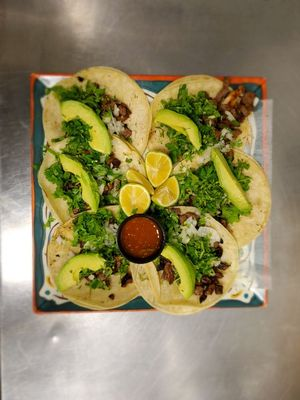curry: (155, 207, 222, 301)
